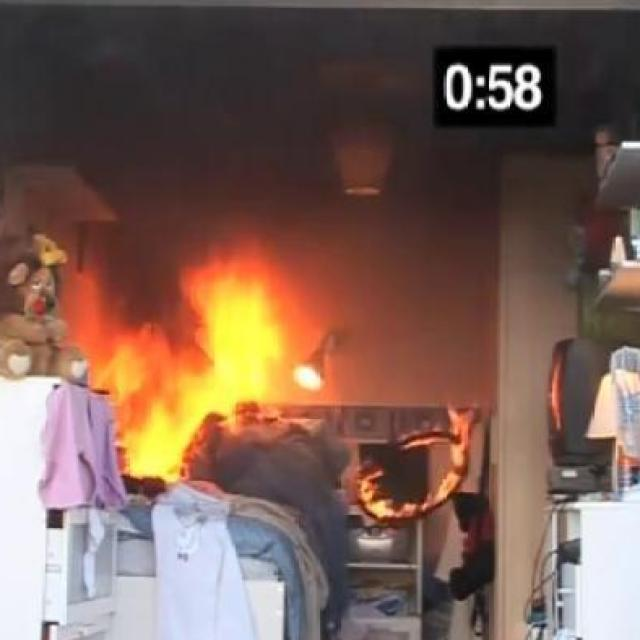smoke: (103, 242, 280, 484), (355, 410, 473, 528)
